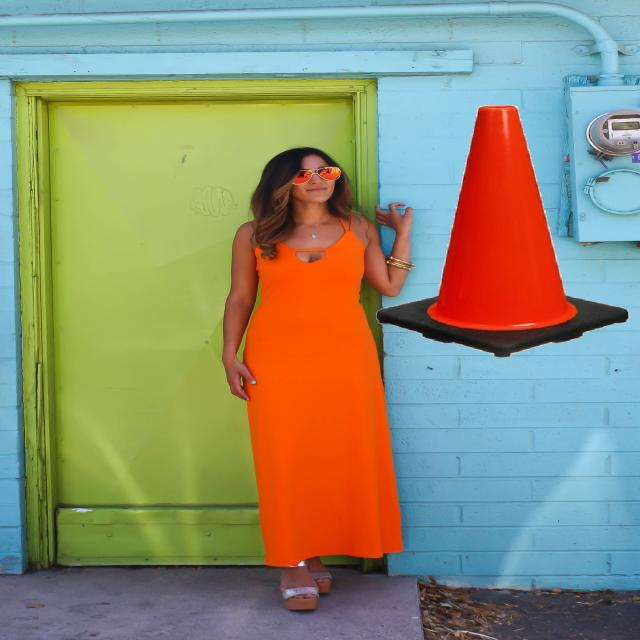traffic cone: (367, 99, 636, 363)
